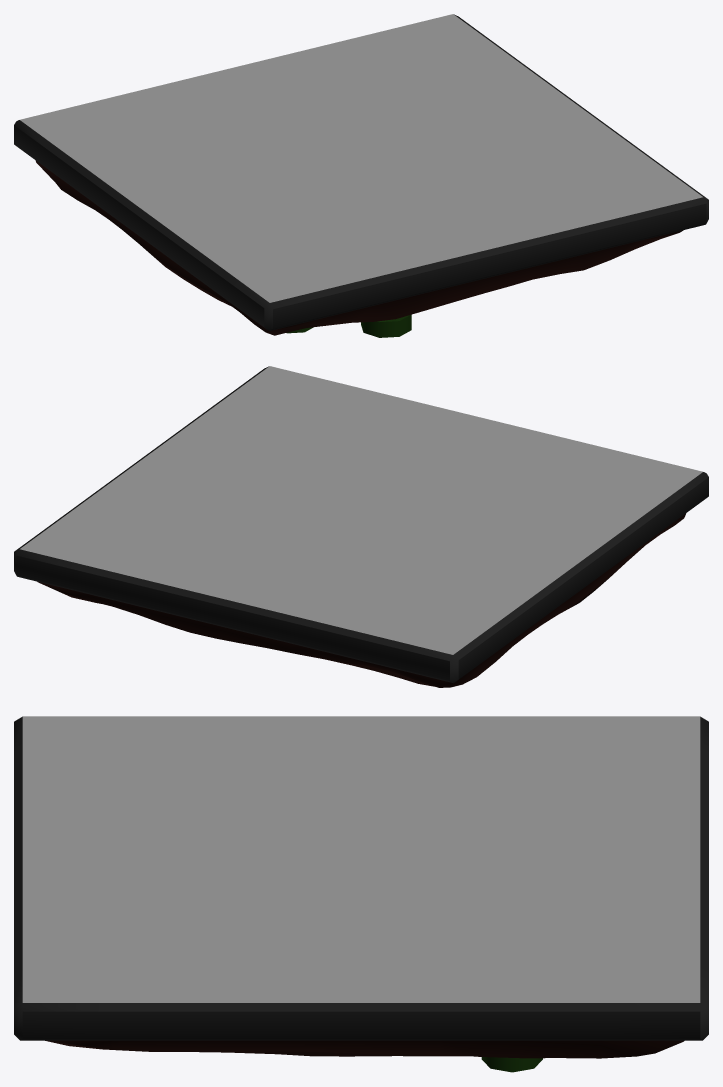
File: MET_PlatformeTuyau_Moyen_Pierre_02_LOD0.fbx
3 renders of one model, top to bottom at view 1: azimuth 30°, elevation 25°; view 2: azimuth 150°, elevation 25°; view 3: azimuth 270°, elevation 25°, orthographic. The views are drawn at different scales.
Visible parts, largest first — view 1: MET_PlatformeTuyau_Moyen_Pierre_02_LOD0; view 2: MET_PlatformeTuyau_Moyen_Pierre_02_LOD0; view 3: MET_PlatformeTuyau_Moyen_Pierre_02_LOD0.
Part boxes in pixels (x1,y1,x2,y2): MET_PlatformeTuyau_Moyen_Pierre_02_LOD0: [14, 14, 708, 337]; MET_PlatformeTuyau_Moyen_Pierre_02_LOD0: [14, 366, 708, 687]; MET_PlatformeTuyau_Moyen_Pierre_02_LOD0: [14, 716, 708, 1072].
Bounding box in the file's own units: 600 × 133 × 600.
